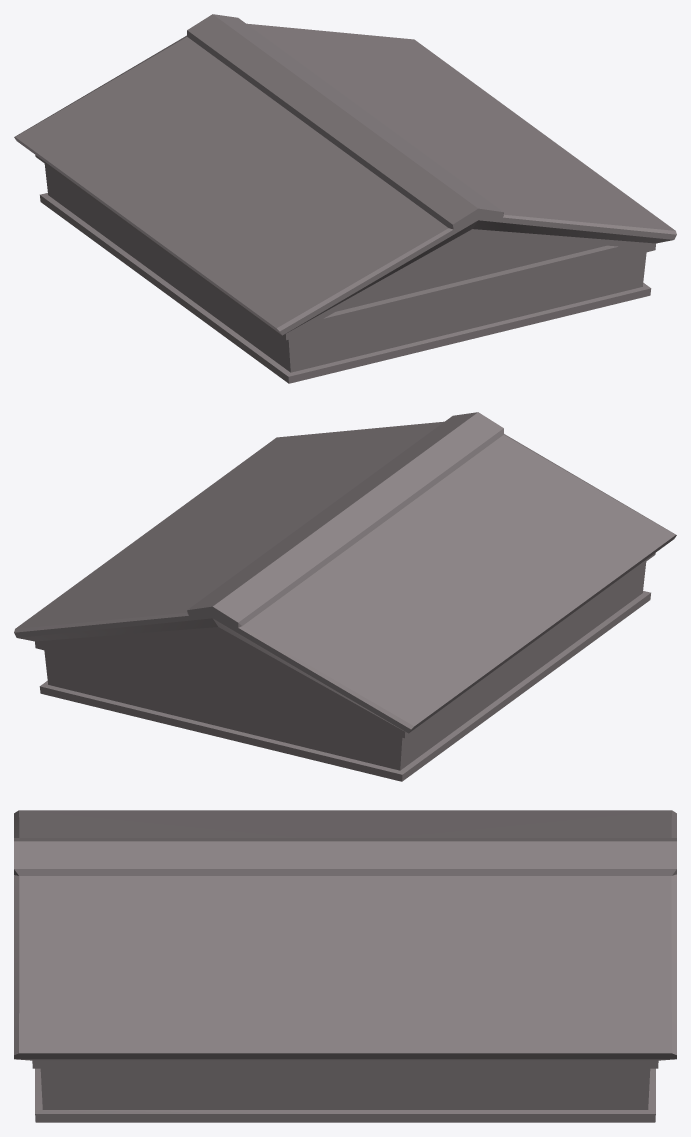
The model's file is material3.024_lev3.glb.
3 views of the same model, one above another, from view 1: azimuth 30°, elevation 25°; view 2: azimuth 150°, elevation 25°; view 3: azimuth 270°, elevation 25° (orthographic). The views are drawn at different scales.
Visible parts, largest first — view 1: material3.024_lev3; view 2: material3.024_lev3; view 3: material3.024_lev3.
Part boxes in pixels (x1,y1,x2,y2): material3.024_lev3: (14, 14, 676, 383); material3.024_lev3: (14, 412, 676, 781); material3.024_lev3: (14, 810, 676, 1122).
Size of the model in its own units: 0.5924 by 0.1948 by 0.6825.
Materials: 1 (1 with a texture image).
